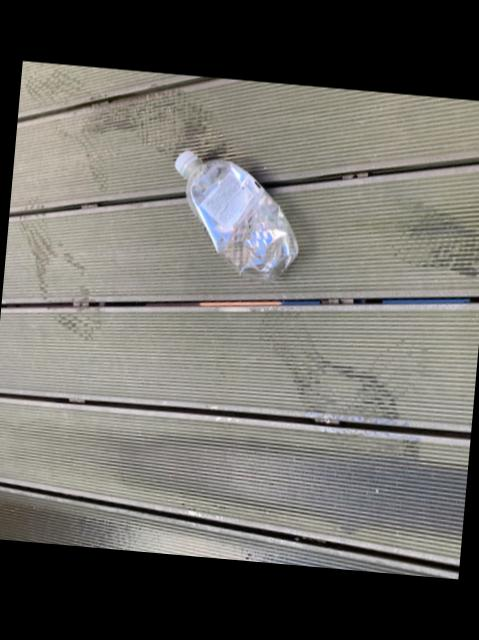plastic: (173, 149, 295, 279)
